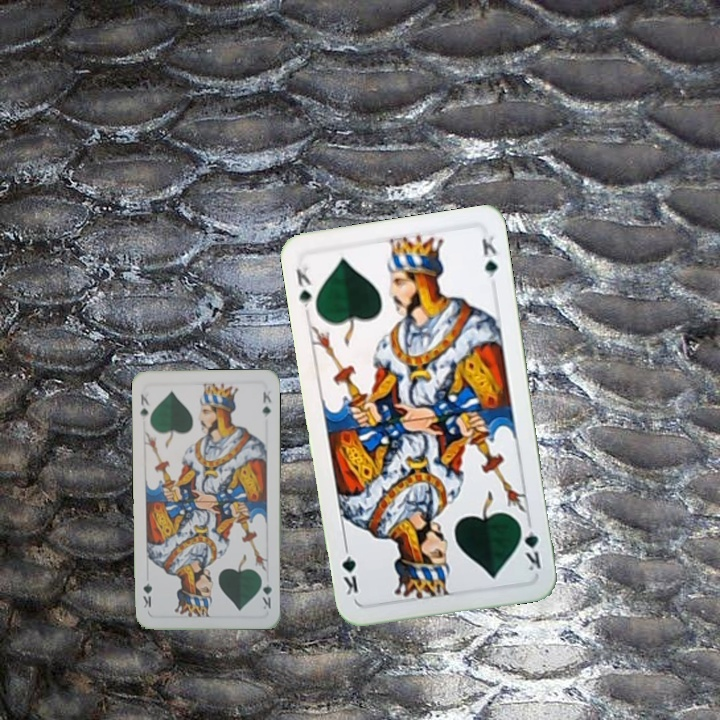GK: (515, 516, 544, 574), (292, 263, 314, 310), (257, 573, 275, 612), (136, 390, 153, 422)
